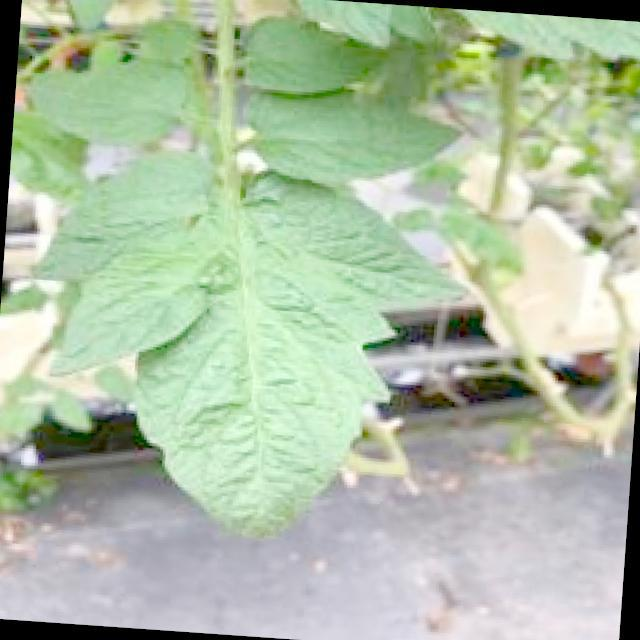Tomato healthy leaf: (9, 0, 470, 542)
